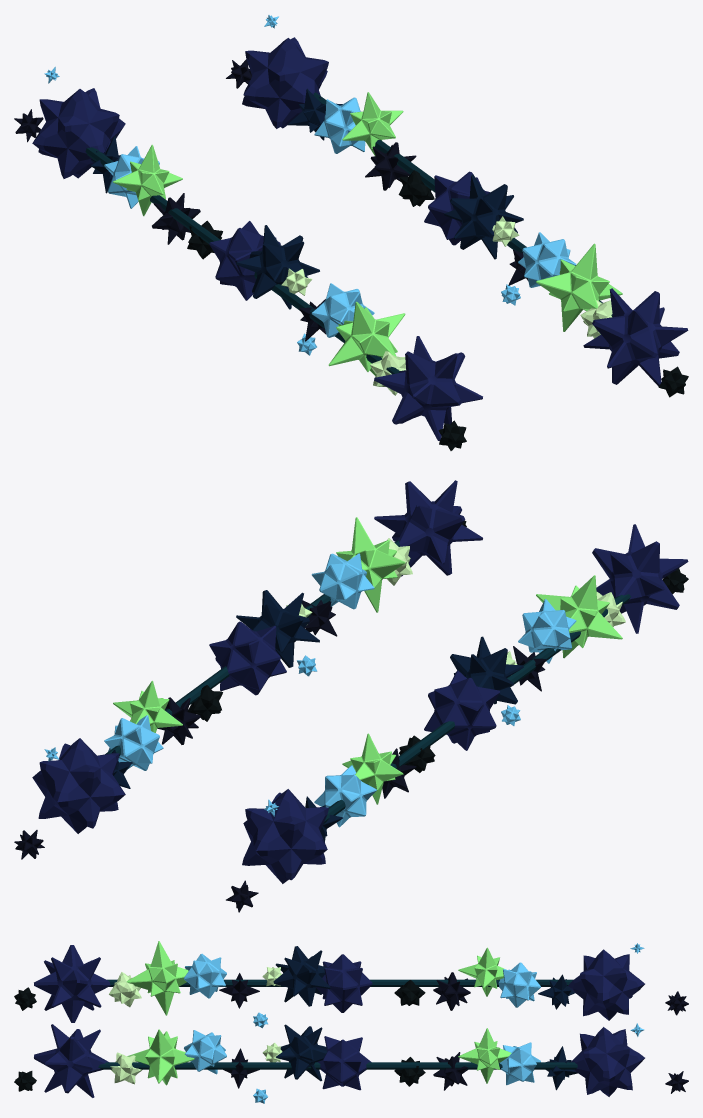
Rendered from sphere chain_st3.fbx.
The picture shows the model from 3 angles, top to bottom: view 1: azimuth 30°, elevation 25°; view 2: azimuth 150°, elevation 25°; view 3: azimuth 270°, elevation 25°; orthographic projection. The views are drawn at different scales.
Parts seen in each view (by area): view 1: Sticks; view 2: Sticks; view 3: Sticks.
Part boxes in pixels (x1=…): Sticks: x1=14, y1=15, x2=688, y2=450; Sticks: x1=14, y1=480, x2=688, y2=912; Sticks: x1=14, y1=941, x2=688, y2=1103.
Size of the model in its own units: 158 by 54.89 by 409.
